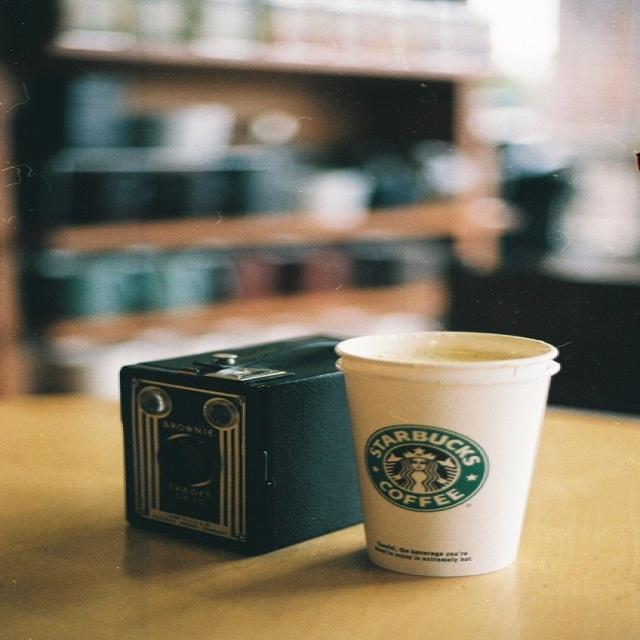starbucks: (364, 426, 490, 514)
